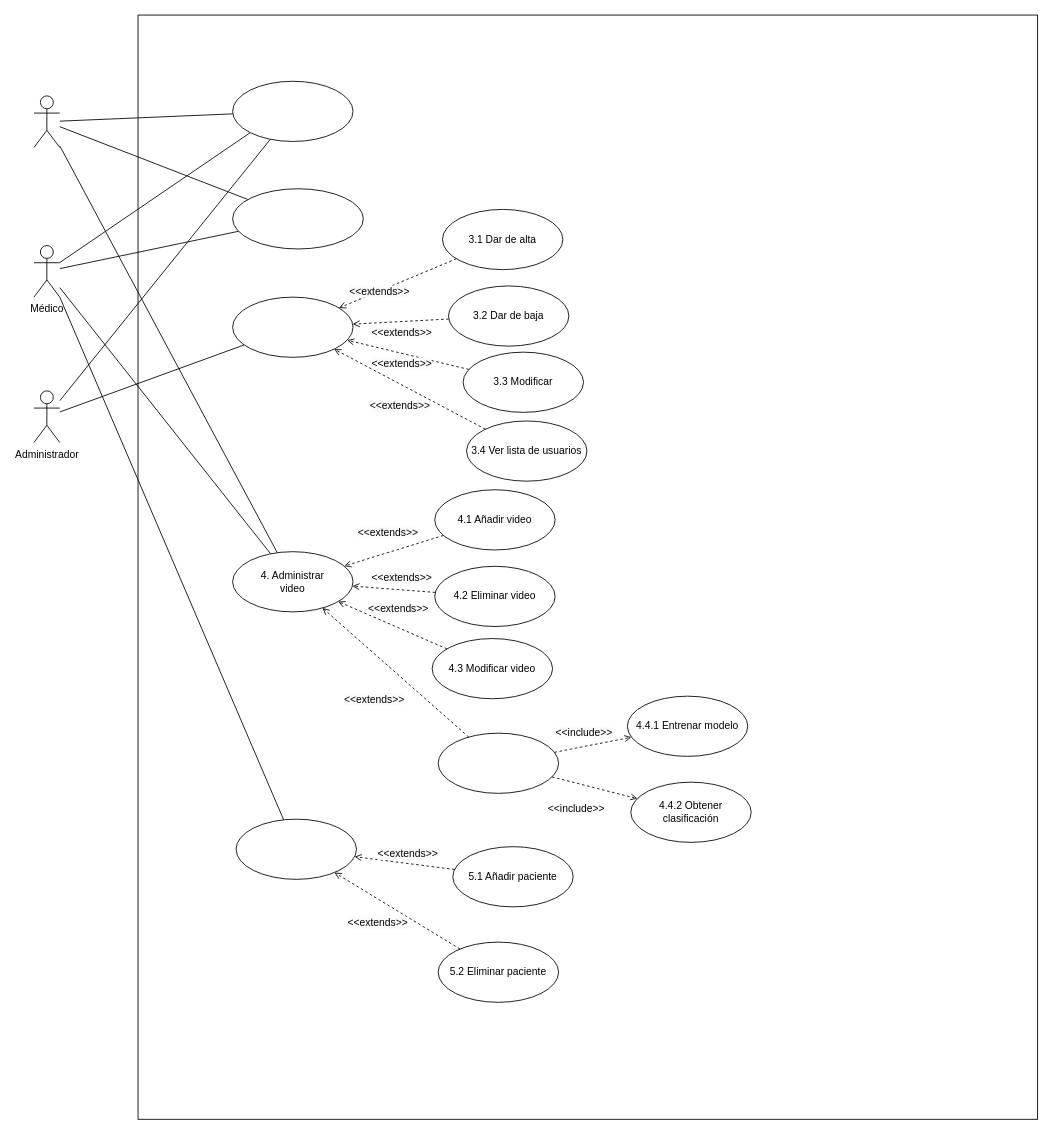
This 1053x1134 diagram has some shape labels left out. Each missing label, with the box of its shape:
1. Autentificación: (232, 80, 353, 141)
2. Visualización evolución: (232, 188, 363, 249)
3. Administración de usuarios: (232, 296, 353, 357)
4.4 Clasificar video: (437, 732, 559, 793)
5. Administrar pacientes: (235, 818, 356, 879)
Paciente: (33, 95, 60, 147)
